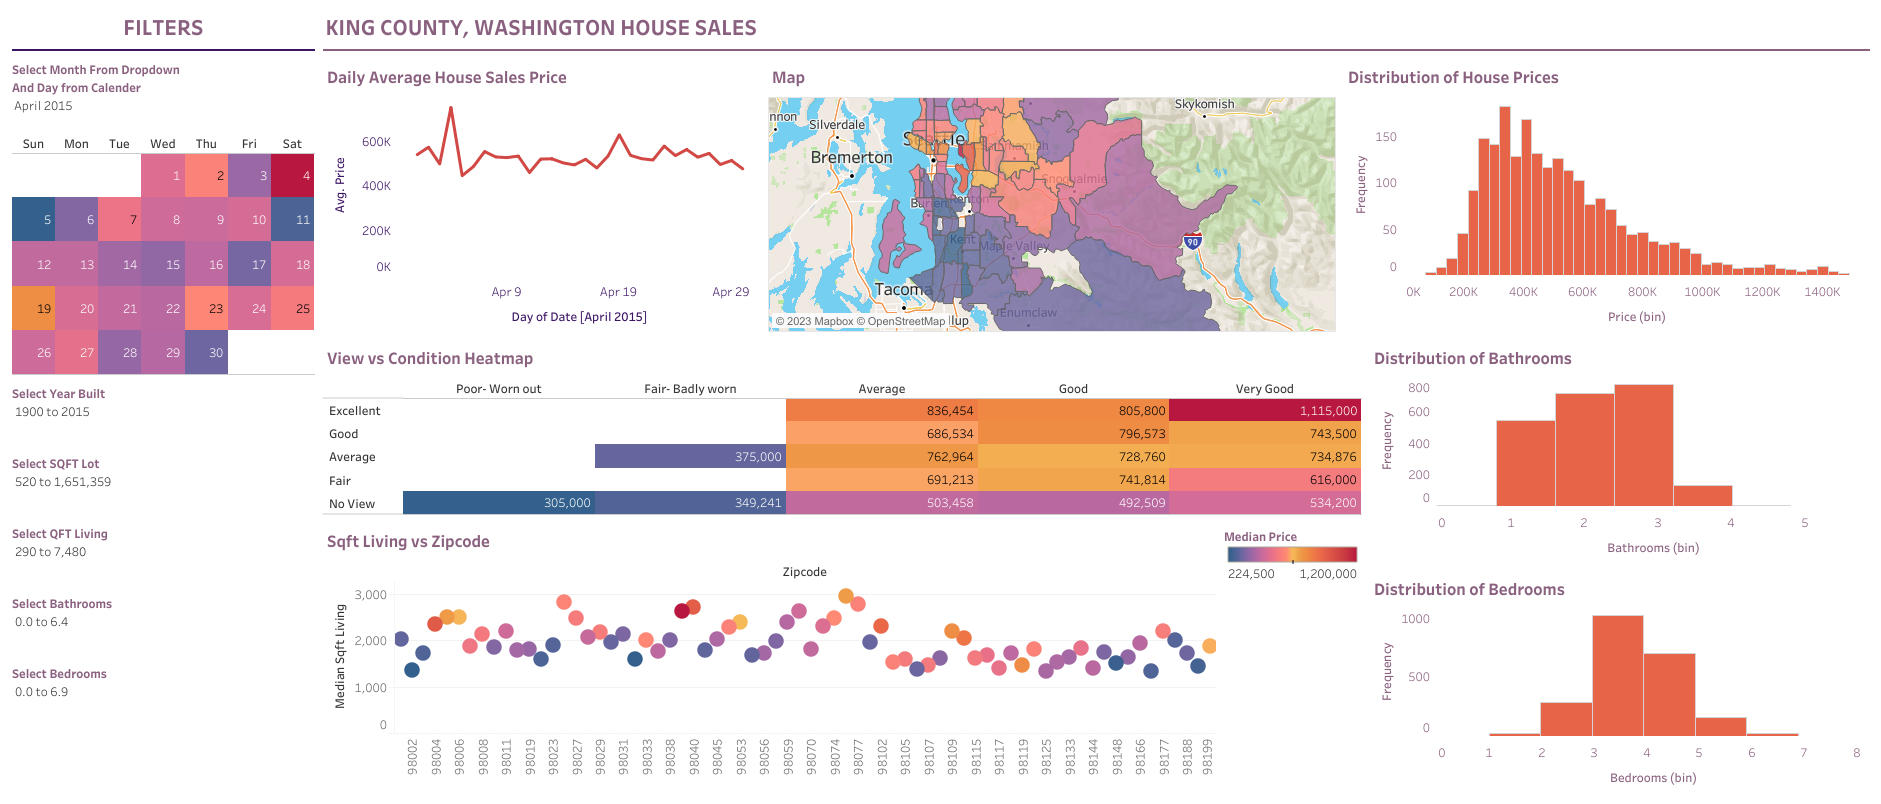

The dashboard page shown, as its layout file describes it:
{"tool":"tableau","page":{"name":"King County House Sales","canvas":[1000,1000],"units":"permille","ordinal":0},"visuals":[{"type":"text","box":[4.7,8.9,165,41.3]},{"type":"text","box":[169.7,8.9,825.6,41.3]},{"type":"blank","box":[4.7,50.2,165,11.2]},{"type":"blank","box":[169.7,50.2,825.6,11.2]},{"type":"filter","title":"Calender","param":"[federated.0cfaqqi0e5zctk1f0l8jp0fjkgia].[my:date:ok]","box":[4.7,61.4,165,77]},{"type":"worksheet","title":"Line Chart","mark":"Automatic","rows":["price"],"cols":["date"],"box":[169.7,61.4,260.4,356]},{"type":"worksheet","title":"Map","mark":"Automatic","box":[430.1,61.4,295.2,356]},{"type":"worksheet","title":"Price Histogram","mark":"Automatic","rows":["price"],"cols":["Price (bin)"],"box":[725.3,61.4,270,356]},{"type":"worksheet","title":"Calender","mark":"Square","rows":["date"],"cols":["date"],"box":[4.7,138.4,165,279]},{"type":"filter","title":"Calender","param":"[federated.0cfaqqi0e5zctk1f0l8jp0fjkgia].[none:yr_built:qk]","box":[4.7,417.4,165,56.9]},{"type":"worksheet","title":"Heatmap","mark":"Square","rows":["view"],"cols":["condition"],"box":[169.7,417.4,555.9,227.7]},{"type":"worksheet","title":"Bathroom Histogram","mark":"Automatic","rows":["bathrooms"],"cols":["Bathrooms (bin)"],"box":[725.6,417.4,269.8,286.8]},{"type":"filter","title":"Calender","param":"[federated.0cfaqqi0e5zctk1f0l8jp0fjkgia].[none:sqft_lot:qk]","box":[4.7,474.3,165,56.9]},{"type":"filter","title":"Calender","param":"[federated.0cfaqqi0e5zctk1f0l8jp0fjkgia].[none:sqft_living:qk]","box":[4.7,531.3,165,56.9]},{"type":"filter","title":"Calender","param":"[federated.0cfaqqi0e5zctk1f0l8jp0fjkgia].[none:Bathrooms (bin):qk]","box":[4.7,588.2,165,56.9]},{"type":"filter","title":"Calender","param":"[federated.0cfaqqi0e5zctk1f0l8jp0fjkgia].[none:Bedrooms (bin):qk]","box":[4.7,645.1,165,56.9]},{"type":"worksheet","title":"House Price vs Zipcode","mark":"Circle","rows":["sqft_living"],"cols":["zipcode"],"box":[169.7,645.1,478.6,346]},{"type":"legend","title":"House Price vs Zipcode","param":"[federated.0cfaqqi0e5zctk1f0l8jp0fjkgia].[med:price:qk]","box":[648.3,645.1,77.2,346]},{"type":"worksheet","title":"Bedroom Histogram","mark":"Automatic","rows":["bedrooms"],"cols":["Bedrooms (bin)"],"box":[725.6,704.2,269.8,286.8]}]}

Visuals, with their boxes on the dashboard's canvas, which has no fixed pixel size, in thousandths of its width and height (x1, y1, x2, y2). These are canvas units, not pixel positions in the 1881x804 screenshot, which may show the page scaled, cropped or inside an application window:
text: [x1=5, y1=9, x2=170, y2=50]
text: [x1=170, y1=9, x2=995, y2=50]
blank: [x1=5, y1=50, x2=170, y2=61]
blank: [x1=170, y1=50, x2=995, y2=61]
"Calender" filter: [x1=5, y1=61, x2=170, y2=138]
"Line Chart" worksheet: [x1=170, y1=61, x2=430, y2=417]
"Map" worksheet: [x1=430, y1=61, x2=725, y2=417]
"Price Histogram" worksheet: [x1=725, y1=61, x2=995, y2=417]
"Calender" worksheet (Square marks): [x1=5, y1=138, x2=170, y2=417]
"Calender" filter: [x1=5, y1=417, x2=170, y2=474]
"Heatmap" worksheet (Square marks): [x1=170, y1=417, x2=726, y2=645]
"Bathroom Histogram" worksheet: [x1=726, y1=417, x2=995, y2=704]
"Calender" filter: [x1=5, y1=474, x2=170, y2=531]
"Calender" filter: [x1=5, y1=531, x2=170, y2=588]
"Calender" filter: [x1=5, y1=588, x2=170, y2=645]
"Calender" filter: [x1=5, y1=645, x2=170, y2=702]
"House Price vs Zipcode" worksheet (Circle marks): [x1=170, y1=645, x2=648, y2=991]
"House Price vs Zipcode" legend: [x1=648, y1=645, x2=726, y2=991]
"Bedroom Histogram" worksheet: [x1=726, y1=704, x2=995, y2=991]
